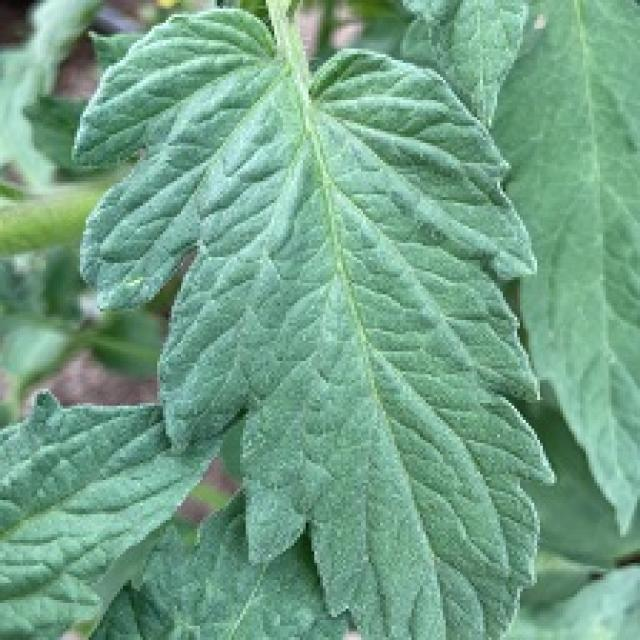Healthy: (70, 0, 556, 640)
